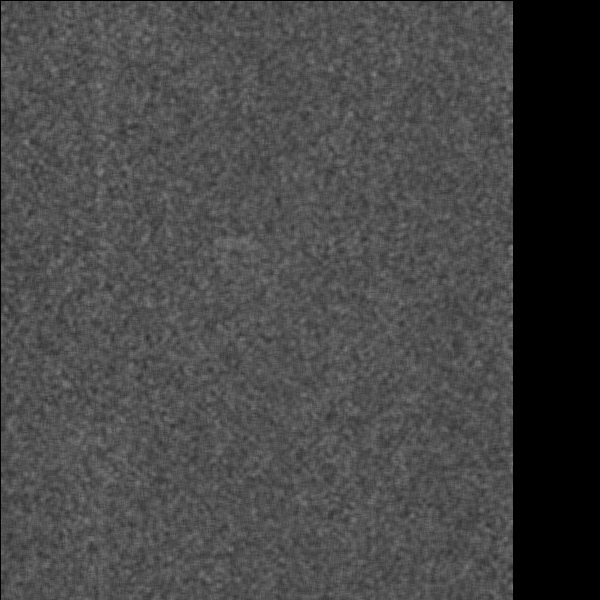spark: (117, 207, 163, 271), (364, 386, 403, 437), (126, 110, 146, 138)
